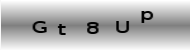8: (85, 21, 99, 34)
G: (31, 20, 47, 33)
U: (115, 20, 130, 33)
p: (139, 9, 154, 24)
t: (56, 23, 67, 35)
